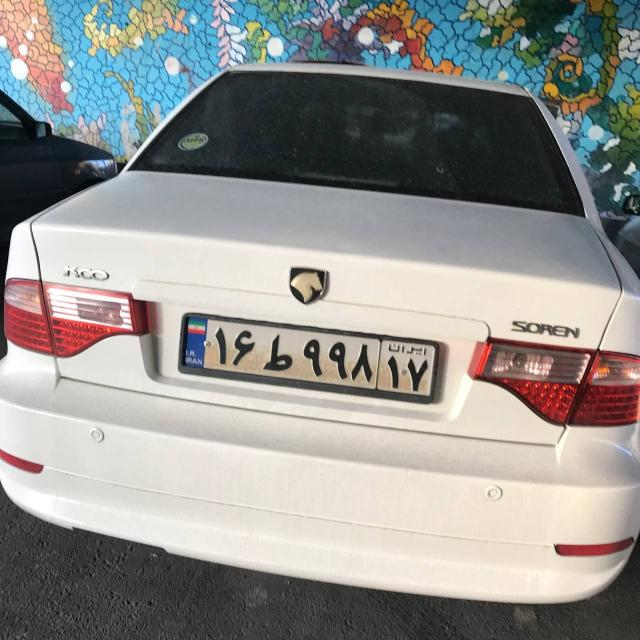Plates: (180, 315, 436, 397)
